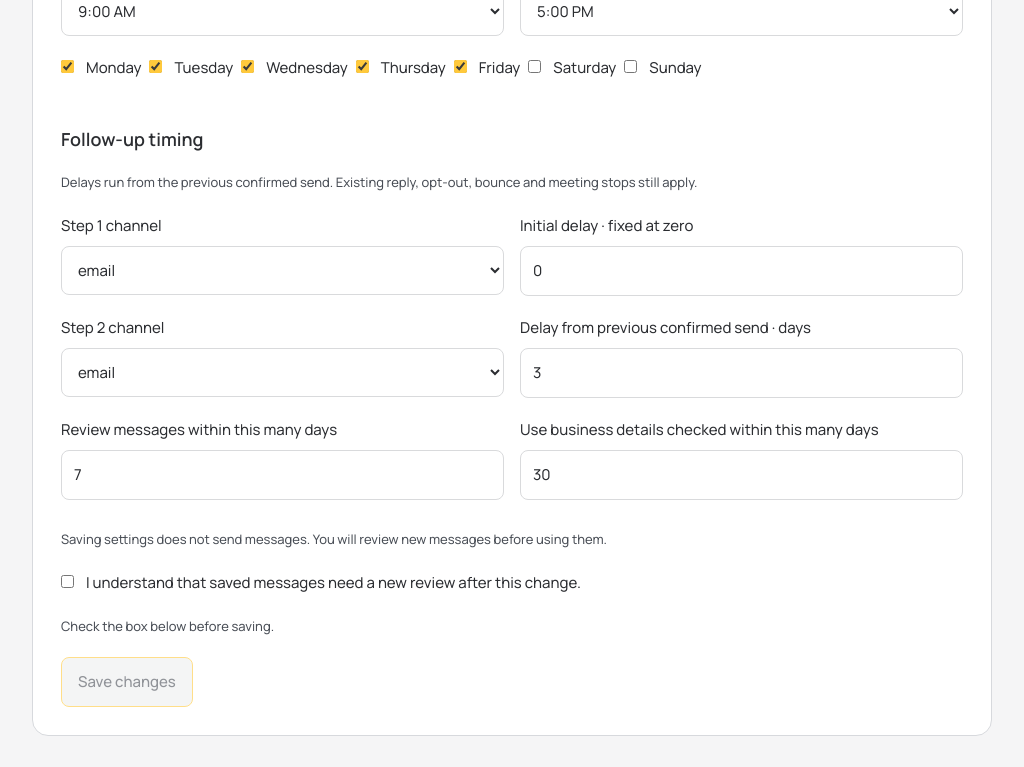
Scenario: versioned save uses current settings exactly once and requires review acknowledgement
Later steps or results of the test are not shown.
(page scrolled)
Expected: the button "Save changes" is disabled, [61,657,193,707]
Click the 8th checkbox at (68, 581), box [61,574,74,588]
(page scrolled)
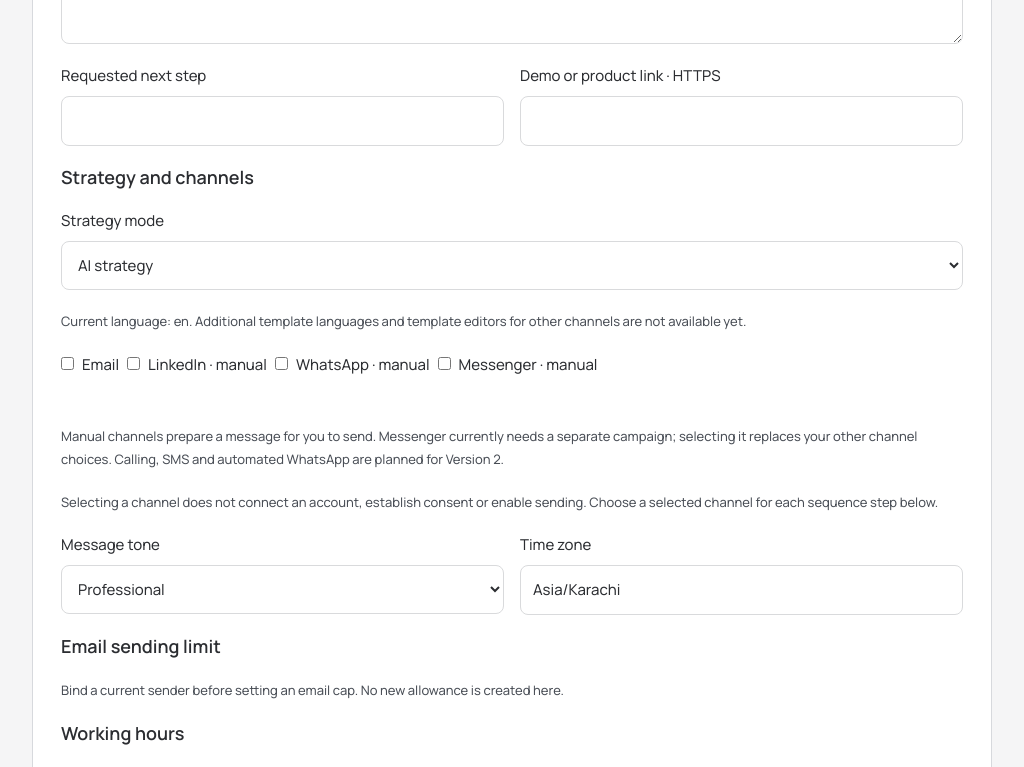
Submit the form
Submit the form
(page scrolled)
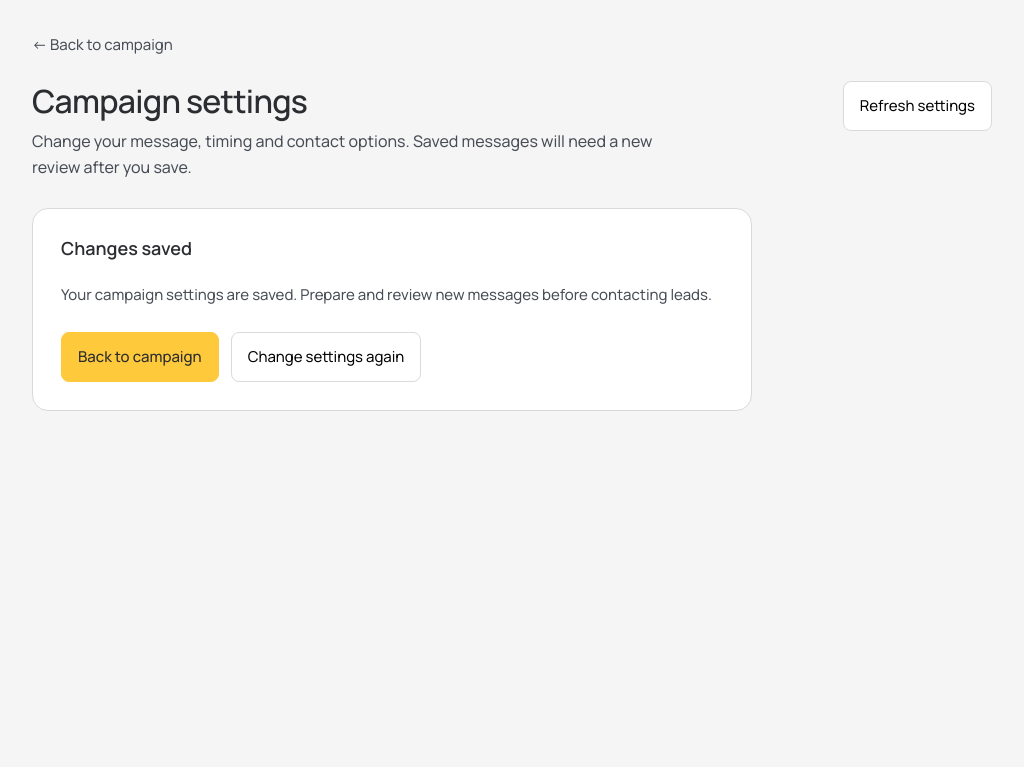
Expected: the text "Changes saved" is shown, [61,236,192,260]
Expected: the text "Prepare and review new messages" is shown, [61,284,712,305]
